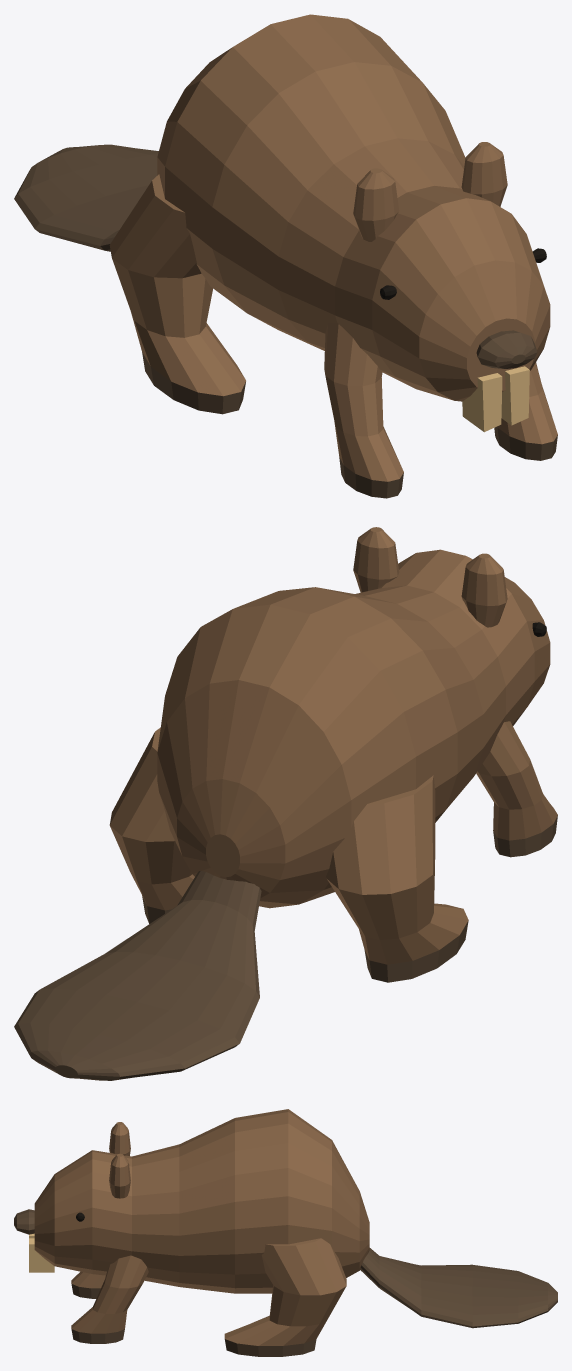
3 renders of one model, top to bottom at view 1: azimuth 30°, elevation 25°; view 2: azimuth 150°, elevation 25°; view 3: azimuth 270°, elevation 25°, orthographic. The views are drawn at different scales.
Visible parts, largest first — view 1: WholeBluntCheekHeadThickNeckAndHighHaunch, WholeHindBentLegAndFiniteFoot0, WholeWideOvalFlattenedBeaverTail, WholeForeBentLegAndFiniteFoot0, WholeForeBentLegAndFiniteFoot1, WholeSmallRoundedBeaverEar0, WholeSmallRoundedBeaverEar1, WholeShortDarkBeaverNose, WholeThickFrontIncisor0, WholeThickFrontIncisor1; view 2: WholeBluntCheekHeadThickNeckAndHighHaunch, WholeWideOvalFlattenedBeaverTail, WholeHindBentLegAndFiniteFoot0, WholeHindBentLegAndFiniteFoot1, WholeForeBentLegAndFiniteFoot0, WholeSmallRoundedBeaverEar0, WholeSmallRoundedBeaverEar1; view 3: WholeBluntCheekHeadThickNeckAndHighHaunch, WholeWideOvalFlattenedBeaverTail, WholeHindBentLegAndFiniteFoot1, WholeForeBentLegAndFiniteFoot1, WholeSmallRoundedBeaverEar1, WholeForeBentLegAndFiniteFoot0, WholeSmallRoundedBeaverEar0, WholeThickFrontIncisor1, WholeShortDarkBeaverNose.
Boxes of the visible parts, bbox=[...] form: WholeBluntCheekHeadThickNeckAndHighHaunch: bbox=[157, 14, 550, 401]; WholeHindBentLegAndFiniteFoot0: bbox=[109, 174, 245, 414]; WholeWideOvalFlattenedBeaverTail: bbox=[14, 144, 158, 251]; WholeForeBentLegAndFiniteFoot0: bbox=[324, 323, 403, 498]; WholeForeBentLegAndFiniteFoot1: bbox=[494, 362, 557, 460]; WholeSmallRoundedBeaverEar0: bbox=[353, 168, 399, 241]; WholeSmallRoundedBeaverEar1: bbox=[461, 142, 507, 206]; WholeShortDarkBeaverNose: bbox=[476, 330, 537, 368]; WholeThickFrontIncisor0: bbox=[462, 373, 502, 432]; WholeThickFrontIncisor1: bbox=[501, 366, 529, 425]; WholeBluntCheekHeadThickNeckAndHighHaunch: bbox=[157, 549, 550, 908]; WholeWideOvalFlattenedBeaverTail: bbox=[14, 871, 261, 1080]; WholeHindBentLegAndFiniteFoot0: bbox=[326, 775, 468, 982]; WholeHindBentLegAndFiniteFoot1: bbox=[109, 727, 194, 923]; WholeForeBentLegAndFiniteFoot0: bbox=[476, 721, 557, 857]; WholeSmallRoundedBeaverEar0: bbox=[461, 553, 507, 627]; WholeSmallRoundedBeaverEar1: bbox=[353, 527, 399, 592]; WholeBluntCheekHeadThickNeckAndHighHaunch: bbox=[34, 1109, 369, 1293]; WholeWideOvalFlattenedBeaverTail: bbox=[360, 1248, 557, 1328]; WholeHindBentLegAndFiniteFoot1: bbox=[224, 1238, 346, 1356]; WholeForeBentLegAndFiniteFoot1: bbox=[71, 1255, 148, 1343]; WholeSmallRoundedBeaverEar1: bbox=[109, 1153, 130, 1198]; WholeForeBentLegAndFiniteFoot0: bbox=[71, 1271, 105, 1298]; WholeSmallRoundedBeaverEar0: bbox=[109, 1122, 130, 1155]; WholeThickFrontIncisor1: bbox=[29, 1238, 54, 1272]; WholeShortDarkBeaverNose: bbox=[14, 1209, 34, 1234].
Size of the model in its own units: 1.07 by 1.1 by 2.74.
